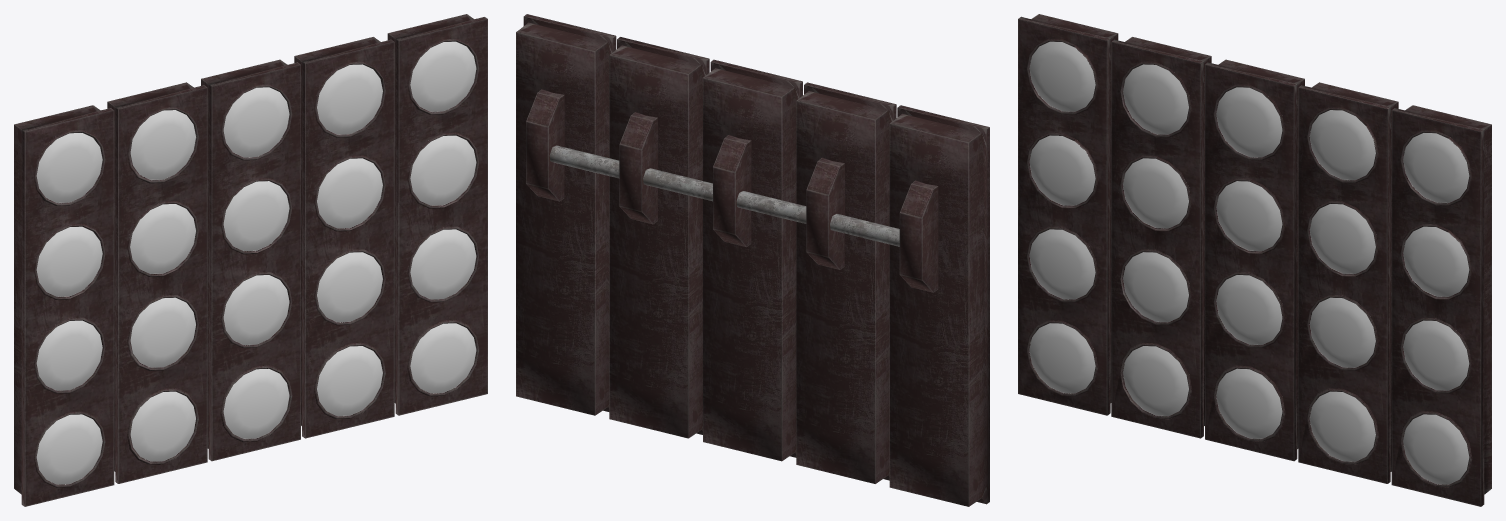
The model's file is panel.glb.
3 renders of one model, left to right at view 1: azimuth 30°, elevation 25°; view 2: azimuth 150°, elevation 25°; view 3: azimuth 330°, elevation 25°, orthographic.
Visible parts, largest first — view 1: body_00, lamp_00; view 2: body_00; view 3: body_00, lamp_00.
Part boxes in pixels (<box>): body_00: <box>14,14,487,506</box>; lamp_00: <box>36,41,476,484</box>; body_00: <box>516,14,989,506</box>; body_00: <box>1018,14,1491,506</box>; lamp_00: <box>1029,41,1469,484</box>.
Bounding box in the file's own units: 1.94 × 1.5 × 0.2646.
2 materials, 1 textured.
